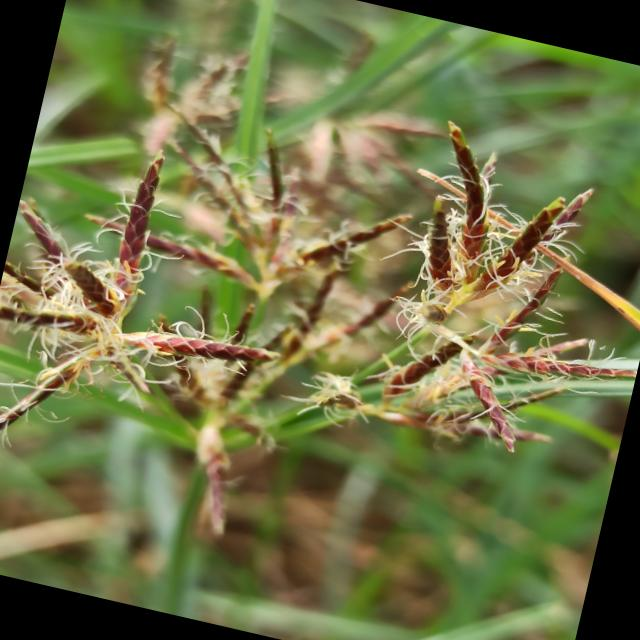cyperus: (0, 23, 640, 591), (293, 103, 640, 503), (0, 122, 302, 499), (88, 12, 450, 283)
